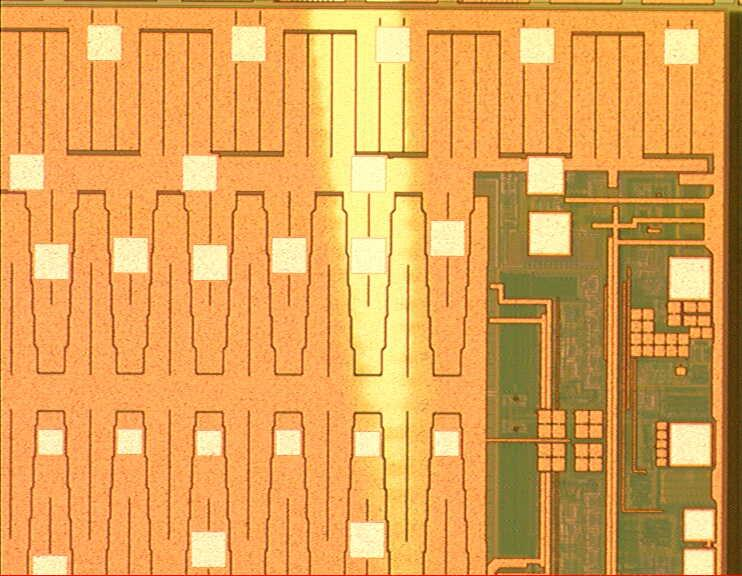BLOCK ETCH: (292, 1, 445, 576)
